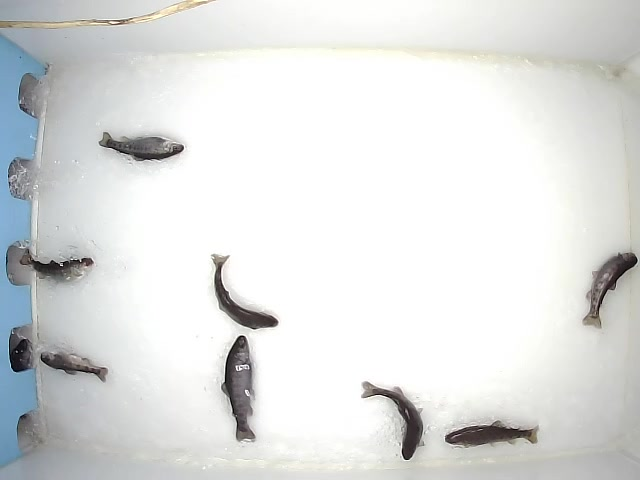fish: (205, 251, 279, 330), (358, 380, 426, 461), (579, 249, 637, 331), (220, 333, 257, 443), (443, 416, 541, 449), (18, 246, 95, 284), (97, 130, 185, 162), (37, 349, 109, 385)
